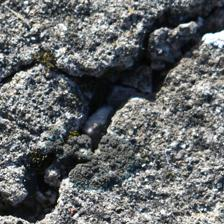Crack: (4, 10, 192, 208)
